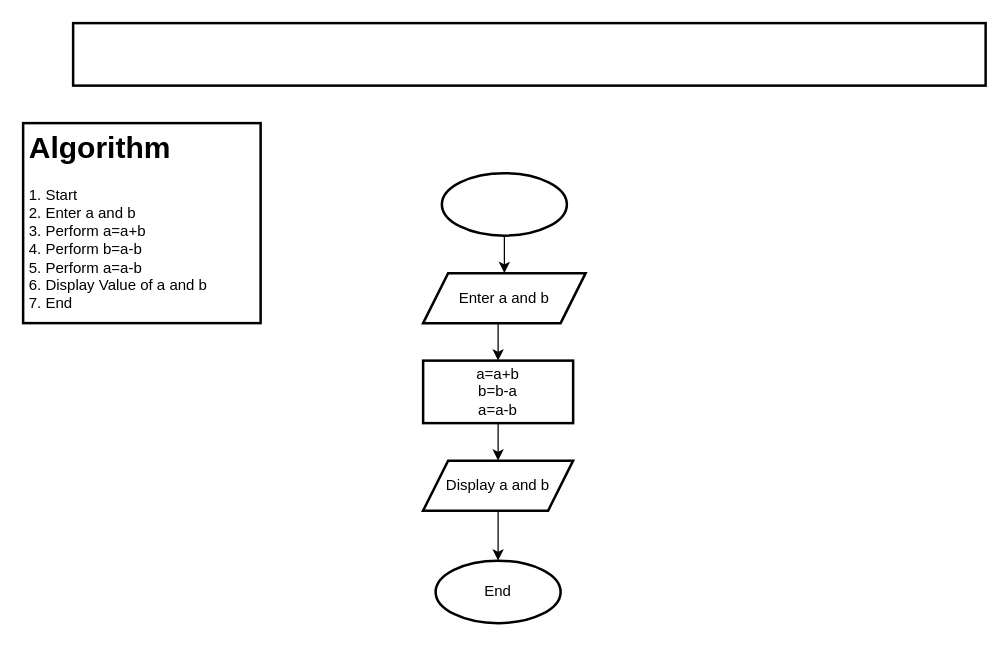
Some shapes in this 1008 by 645 pixel diagram are drawn without their labels. The shapes that lost their labels are listed below. From the top down, each one's box as (x1, y1, x2, y2) in pixels, then its label:
(71, 21, 986, 86): Swapping Without using 3rd Variable
(440, 171, 568, 236): Start
